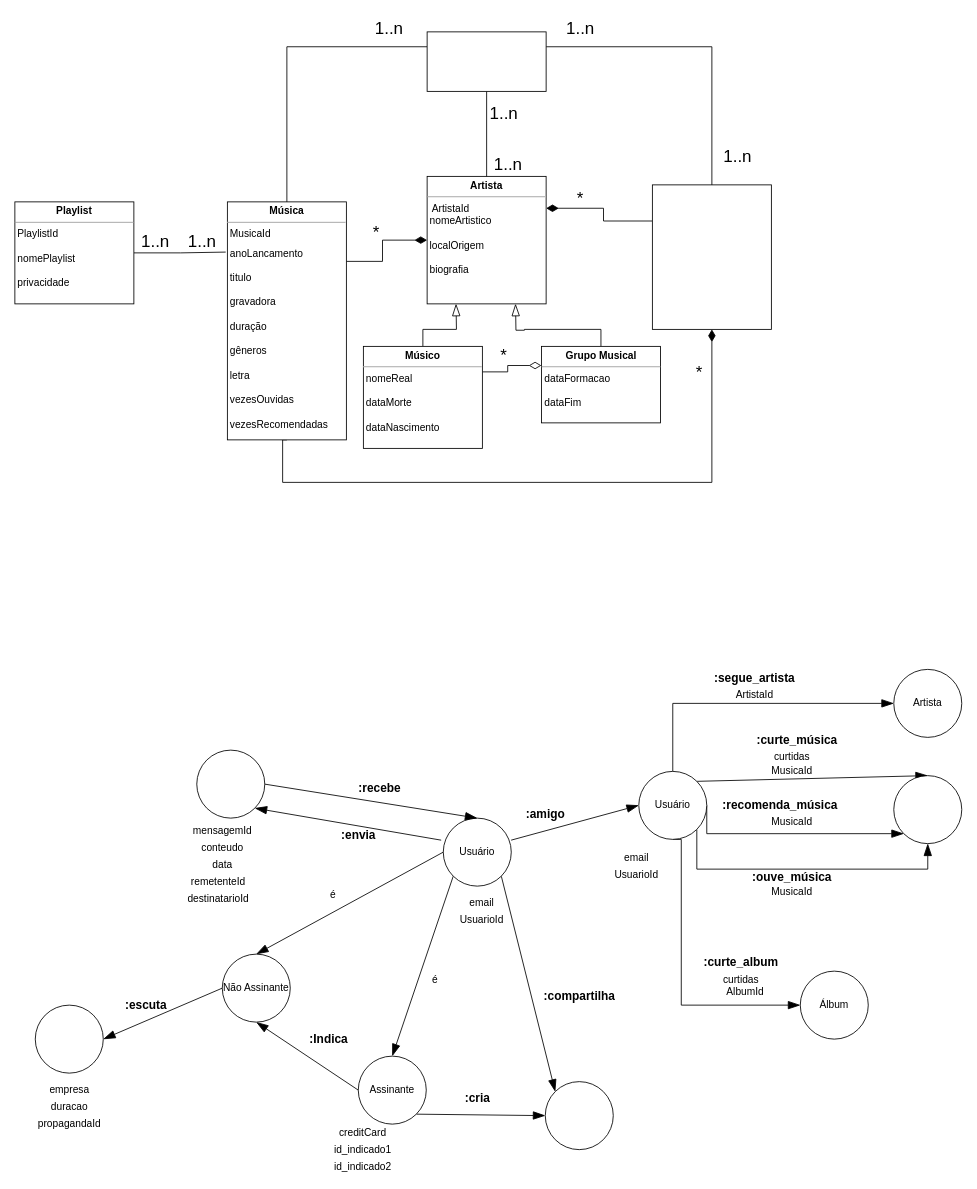
Image size: 977x1189. Some labels were removed from this diagram. The centre of each missing label's shape, as x and y in pixels:
Categoria CategoriaId nome: (486,61)
Mensagem: (230,783)
Música: (927,809)
Playlist: (578,1115)
Propaganda: (68,1038)
Álbum AlbumId anoLancamento titulo gravadora gêneros: (711,256)
